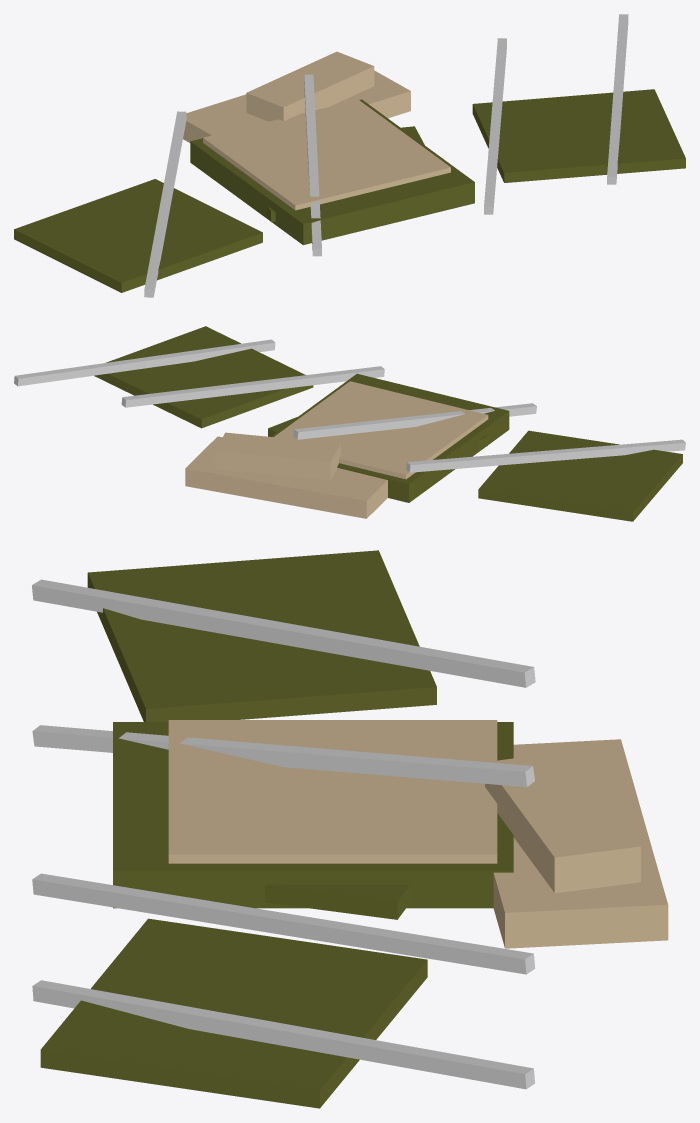
Rendered from SM_HescoCorto1_v1_Geotextil_e3_Brecha_LOD0.fbx.
3 renders of one model, top to bottom at view 1: azimuth 30°, elevation 25°; view 2: azimuth 150°, elevation 25°; view 3: azimuth 270°, elevation 25°, orthographic. The views are drawn at different scales.
Parts seen in each view (by area): view 1: SM_hesco_piezas_v47_LOD0; view 2: SM_hesco_piezas_v47_LOD0; view 3: SM_hesco_piezas_v47_LOD0.
Part boxes in pixels (x1=…): SM_hesco_piezas_v47_LOD0: x1=14, y1=14, x2=685, y2=297; SM_hesco_piezas_v47_LOD0: x1=14, y1=326, x2=685, y2=521; SM_hesco_piezas_v47_LOD0: x1=32, y1=550, x2=668, y2=1108.
Bounding box in the file's own units: 4.09 × 0.3263 × 1.94.
